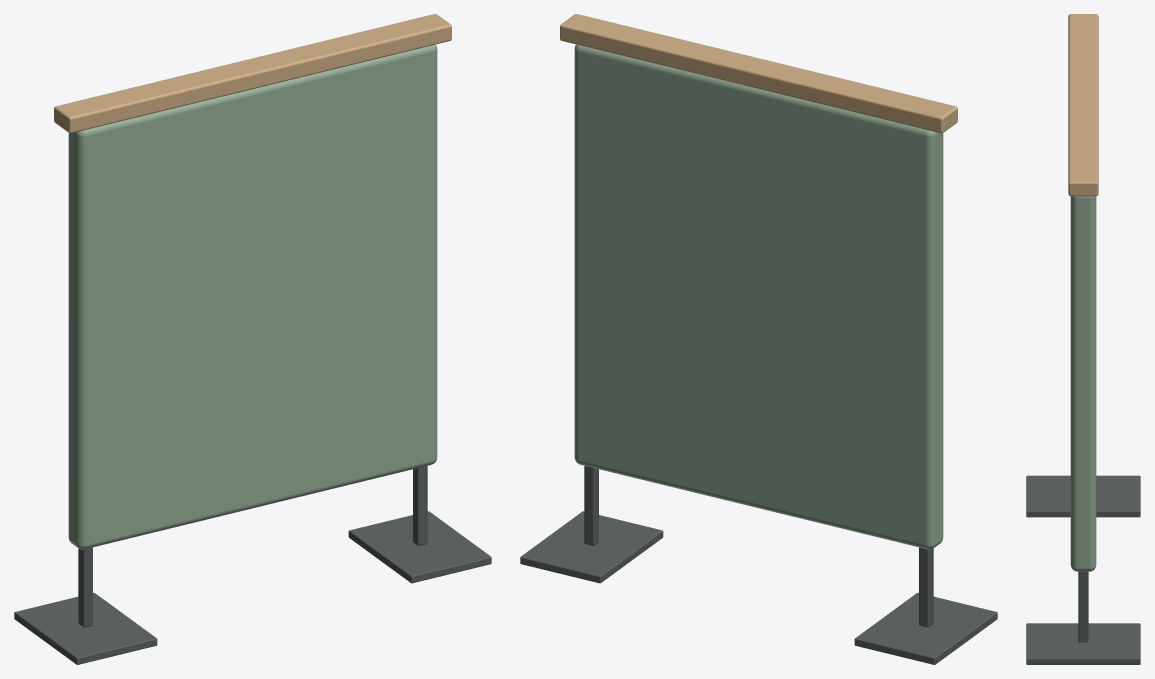
File: public-library-and-reading-garden-public-library-and-r-f1b5ce71__30925.glb
The picture shows the model from 3 angles, left to right: view 1: azimuth 30°, elevation 25°; view 2: azimuth 150°, elevation 25°; view 3: azimuth 270°, elevation 25°; orthographic projection. The views are drawn at different scales.
Parts seen in each view (by area): view 1: public-library-and-reading-garden-booth-acoustic-screen; view 2: public-library-and-reading-garden-booth-acoustic-screen; view 3: public-library-and-reading-garden-booth-acoustic-screen.
Boxes of the visible parts, <box> form: public-library-and-reading-garden-booth-acoustic-screen: <box>14,14,491,664</box>; public-library-and-reading-garden-booth-acoustic-screen: <box>520,14,997,664</box>; public-library-and-reading-garden-booth-acoustic-screen: <box>1026,14,1140,664</box>.
Bounding box in the file's own units: 1.44 × 1.75 × 0.3799.
